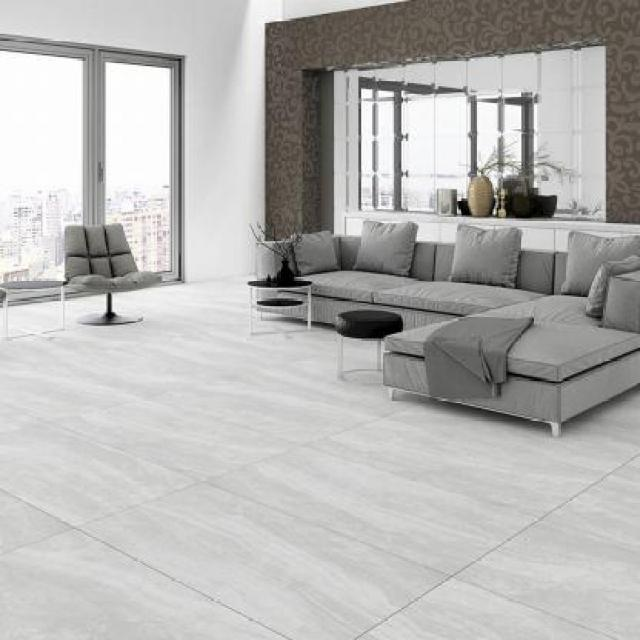Floor: (0, 274, 640, 639), (8, 300, 59, 336), (252, 307, 308, 331), (343, 337, 377, 372)
